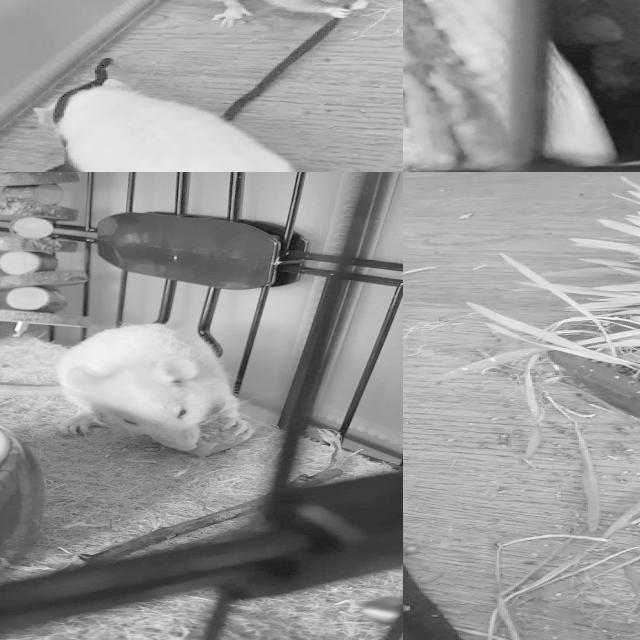rat: (32, 79, 322, 172), (60, 326, 252, 458), (152, 0, 372, 27)
